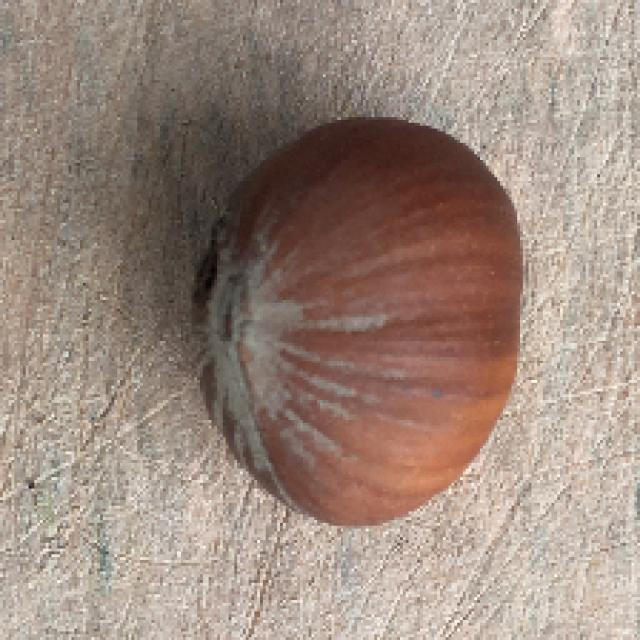damagedHazelnut: (183, 108, 526, 531)
